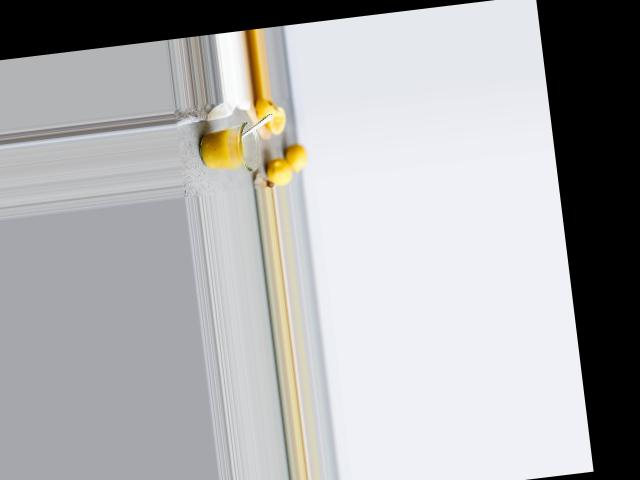lemon: (287, 143, 312, 176)
